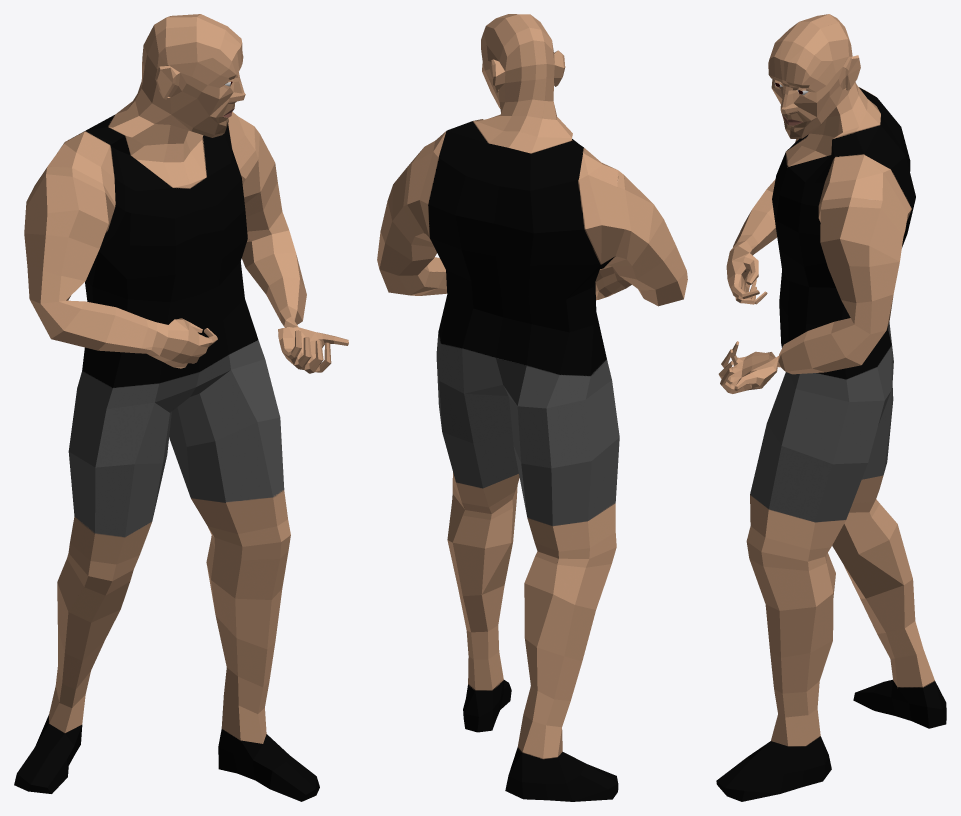
The model's file is PlayerIdle(147).obj.
3 views of the same model, side by side, from view 1: azimuth 30°, elevation 25°; view 2: azimuth 150°, elevation 25°; view 3: azimuth 270°, elevation 25° (orthographic). The views are drawn at different scales.
Parts seen in each view (by area): view 1: Plane002; view 2: Plane002; view 3: Plane002.
Boxes of the visible parts, x1,y1,x2,y2 form: Plane002: [14, 14, 348, 801]; Plane002: [377, 14, 687, 801]; Plane002: [716, 14, 946, 801].
Size of the model in its own units: 702 by 1790 by 505.
